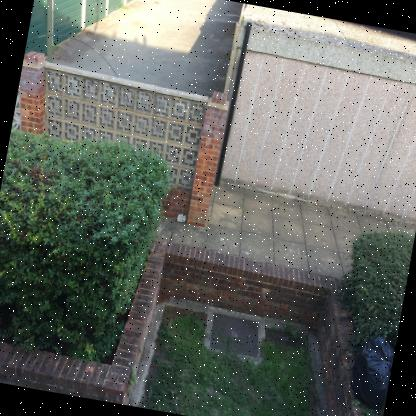Egg carton: (176, 214, 186, 222)
Garbage bag: (350, 333, 395, 411)
